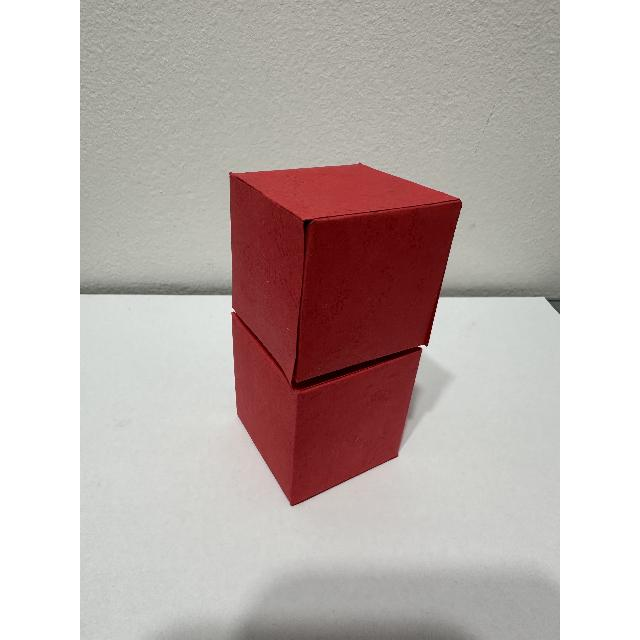red_cube: (218, 146, 476, 524), (229, 163, 461, 506)
